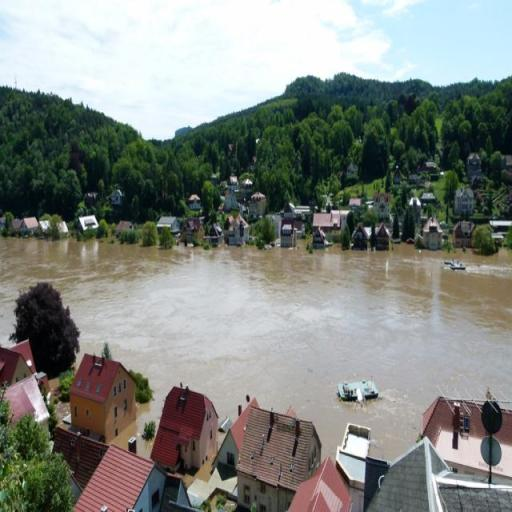flood: (0, 239, 512, 460)
house: (365, 438, 512, 512), (228, 394, 324, 500), (155, 381, 223, 479), (70, 352, 136, 444), (70, 442, 156, 512), (2, 342, 48, 454), (284, 457, 355, 512), (340, 426, 370, 490), (310, 206, 348, 245), (278, 203, 309, 250), (156, 212, 182, 249), (452, 186, 476, 218), (76, 214, 100, 237), (20, 216, 39, 235)
